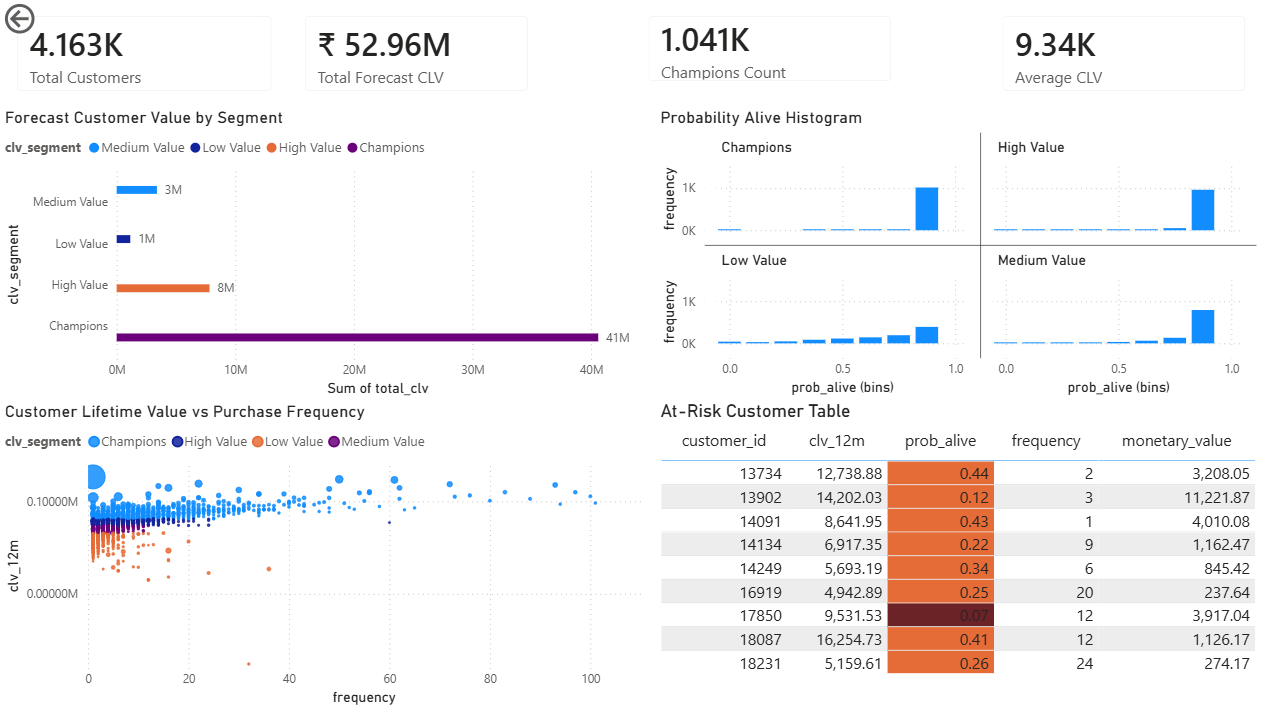

Layout of this report page (visuals, bound fields, positions):
{"tool":"powerbi","page":{"name":"Page 1","canvas":[1280,720],"ordinal":0},"visuals":[{"type":"cardVisual","fields":{"Data":["CountNonNull(clv_customers.customer_id)"]},"box":[0,0,292.5,110],"z":0},{"type":"cardVisual","fields":{"Data":["Sum(clv_customers.clv_12m)"]},"box":[292.5,0,260,110],"z":1000},{"type":"cardVisual","fields":{"Data":["at_risk_customers.Champions Count"]},"box":[640,0,280,100],"z":2000},{"type":"cardVisual","fields":{"Data":["Avg(at_risk_customers.clv_12m)"]},"box":[1000,0,280,110],"z":3000},{"type":"clusteredBarChart","title":"Forecast Customer Value by Segment","fields":{"Series":["segment_summary.clv_segment"],"Y":["Sum(segment_summary.total_clv)"],"Category":["segment_summary.clv_segment"]},"box":[0,110,665,297.5],"z":4000},{"type":"clusteredColumnChart","title":"Probability Alive Histogram","fields":{"Y":["CountNonNull(clv_distribution.frequency)"],"Category":["clv_distribution.prob_alive (bins)"],"Rows":["clv_distribution.clv_segment"]},"box":[665,110,615,297.5],"z":5000},{"type":"scatterChart","title":"Customer Lifetime Value vs Purchase Frequency","fields":{"X":["clv_customers.frequency"],"Y":["clv_customers.clv_12m"],"Series":["clv_customers.clv_segment"],"Size":["Sum(clv_customers.monetary_value)"]},"box":[0,407.5,664.2,313.1],"z":6000},{"type":"tableEx","title":"At-Risk Customer Table","fields":{"Values":["at_risk_customers.customer_id","at_risk_customers.clv_12m","at_risk_customers.prob_alive","at_risk_customers.frequency","at_risk_customers.monetary_value"]},"box":[665,407.5,615,312.5],"z":7000},{"type":"actionButton","box":[0,0,100,40],"z":8000}]}

Visuals, with their boxes in screenshot pixels (x1, y1, x2, y2), scaled from the page's 1280x720 canvas onto the 1273x705 screenshot:
cardVisual - CountNonNull(clv_customers.customer_id): (0, 0, 291, 108)
cardVisual - Sum(clv_customers.clv_12m): (291, 0, 549, 108)
cardVisual - at_risk_customers.Champions Count: (636, 0, 915, 98)
cardVisual - Avg(at_risk_customers.clv_12m): (995, 0, 1272, 108)
"Forecast Customer Value by Segment" clusteredBarChart: (0, 108, 661, 399)
"Probability Alive Histogram" clusteredColumnChart: (661, 108, 1272, 399)
"Customer Lifetime Value vs Purchase Frequency" scatterChart: (0, 399, 661, 704)
"At-Risk Customer Table" tableEx: (661, 399, 1272, 704)
actionButton: (0, 0, 99, 39)
